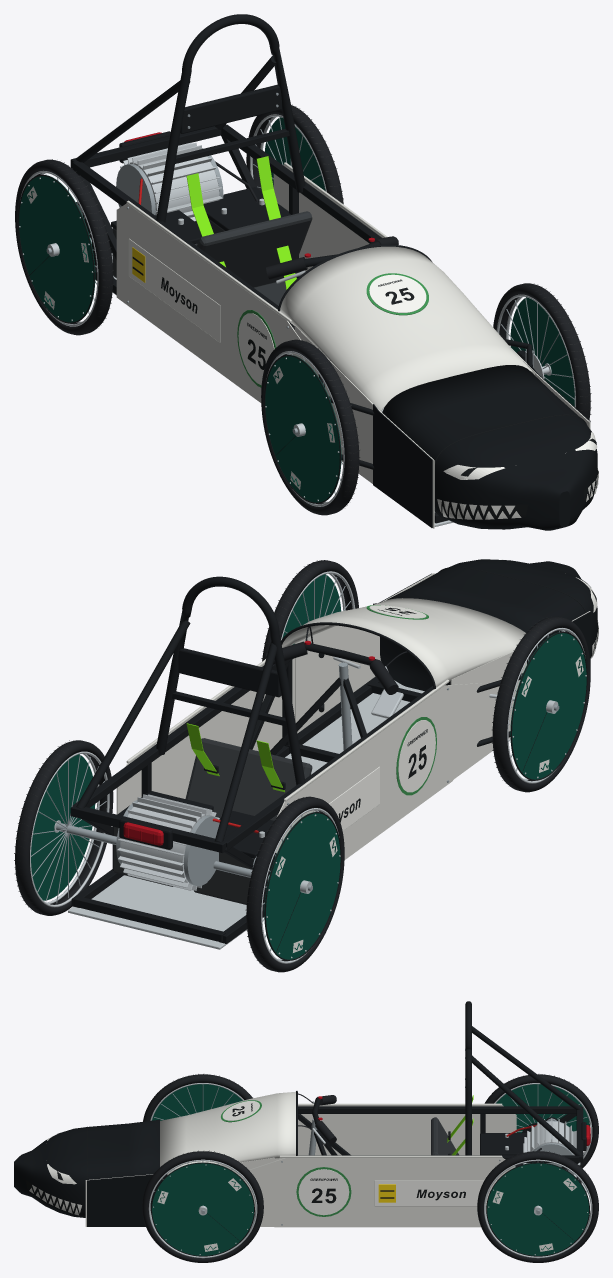
File: greenpower_f24_25_photo.dae
3 renders of one model, top to bottom at view 1: azimuth 30°, elevation 25°; view 2: azimuth 150°, elevation 25°; view 3: azimuth 270°, elevation 25°, orthographic. The views are drawn at different scales.
Visible parts, largest first — view 1: gp25_finished_black_nose, gp25_white_arched_cowl, gp25_side_skin_1, gp25_green_wheel_cover_front_right, gp25_green_wheel_cover_rear_right, gp25_seat_back, gp25_black_nose_side_skin_001, gp25_roll_hoop, gp25_tire_front_right, gp25_tire_rear_right, gp25_sponsor_white_panel_right, gp25_green_wheel_cover_front_left (+21 smaller); view 2: gp25_side_skin_1, gp25_finished_black_nose, gp25_white_arched_cowl, gp25_green_wheel_cover_front_right, gp25_green_wheel_cover_rear_right, gp25_undertray, gp25_side_skin_-1, gp25_green_wheel_cover_rear_left, gp25_seat_back, gp25_front_side_skin, gp25_tire_rear_left, gp25_tire_front_right (+34 smaller); view 3: gp25_side_skin_-1, gp25_finished_black_nose, gp25_green_wheel_cover_rear_left, gp25_green_wheel_cover_front_left, gp25_side_skin_1, gp25_white_arched_cowl, gp25_black_nose_side_skin, gp25_tire_front_left, gp25_tire_rear_left, gp25_sponsor_white_panel_left, gp25_cockpit_top_rail_001, gp25_green_wheel_cover_front_right (+22 smaller).
Boxes of the visible parts, left/top/right/bottom form: gp25_finished_black_nose: left=382, top=365, right=597, bottom=530; gp25_white_arched_cowl: left=280, top=246, right=534, bottom=411; gp25_side_skin_1: left=116, top=203, right=318, bottom=402; gp25_green_wheel_cover_front_right: left=265, top=355, right=341, bottom=502; gp25_green_wheel_cover_rear_right: left=19, top=175, right=95, bottom=322; gp25_seat_back: left=197, top=211, right=312, bottom=287; gp25_black_nose_side_skin_001: left=373, top=404, right=432, bottom=527; gp25_roll_hoop: left=156, top=14, right=305, bottom=222; gp25_tire_front_right: left=261, top=339, right=359, bottom=515; gp25_tire_rear_right: left=15, top=159, right=113, bottom=335; gp25_sponsor_white_panel_right: left=128, top=238, right=220, bottom=342; gp25_green_wheel_cover_front_left: left=510, top=297, right=574, bottom=406; gp25_side_skin_1: left=275, top=683, right=481, bottom=859; gp25_finished_black_nose: left=380, top=559, right=597, bottom=691; gp25_white_arched_cowl: left=282, top=598, right=525, bottom=687; gp25_green_wheel_cover_front_right: left=510, top=632, right=586, bottom=779; gp25_green_wheel_cover_rear_right: left=264, top=812, right=340, bottom=959; gp25_undertray: left=68, top=680, right=424, bottom=949; gp25_side_skin_-1: left=116, top=658, right=294, bottom=814; gp25_green_wheel_cover_rear_left: left=31, top=754, right=95, bottom=900; gp25_seat_back: left=185, top=738, right=312, bottom=820; gp25_front_side_skin: left=295, top=573, right=434, bottom=733; gp25_tire_rear_left: left=15, top=740, right=113, bottom=915; gp25_tire_front_right: left=492, top=616, right=590, bottom=792; gp25_side_skin_-1: left=237, top=1157, right=515, bottom=1227; gp25_finished_black_nose: left=14, top=1119, right=159, bottom=1217; gp25_green_wheel_cover_rear_left: left=487, top=1162, right=589, bottom=1255; gp25_green_wheel_cover_front_left: left=152, top=1162, right=253, bottom=1255; gp25_side_skin_1: left=275, top=1105, right=516, bottom=1160; gp25_white_arched_cowl: left=160, top=1091, right=295, bottom=1172; gp25_black_nose_side_skin: left=87, top=1174, right=167, bottom=1226; gp25_tire_front_left: left=142, top=1151, right=263, bottom=1262; gp25_tire_rear_left: left=477, top=1151, right=598, bottom=1262; gp25_sponsor_white_panel_left: left=374, top=1180, right=496, bottom=1206; gp25_cockpit_top_rail_001: left=298, top=1106, right=576, bottom=1113; gp25_green_wheel_cover_front_right: left=152, top=1084, right=242, bottom=1120.
Bounding box in the file's own units: 0.866 × 2.44 × 1.01.
